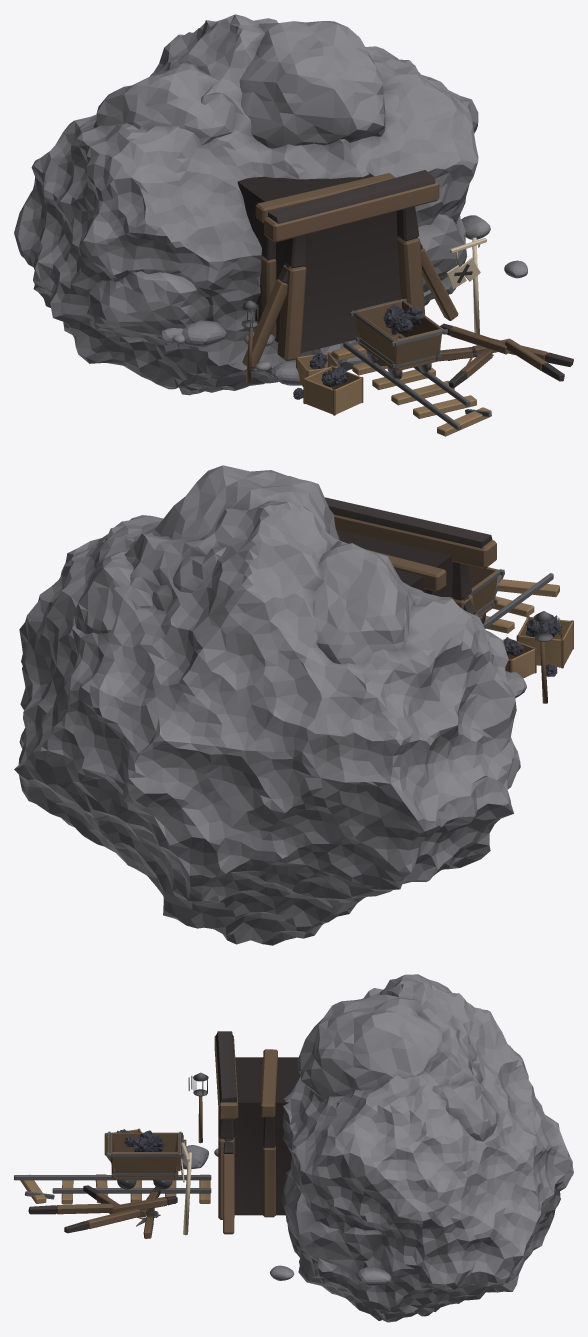
The model's file is mine_head.eebe5aea.glb.
3 renders of one model, top to bottom at view 1: azimuth 30°, elevation 25°; view 2: azimuth 150°, elevation 25°; view 3: azimuth 270°, elevation 25°, orthographic. The views are drawn at different scales.
Visible parts, largest first — view 1: mine_head; view 2: mine_head; view 3: mine_head.
Part boxes in pixels (x1,y1,x2,y2): mine_head: (14, 14, 573, 436); mine_head: (14, 465, 573, 945); mine_head: (14, 974, 573, 1322).
Bounding box in the file's own units: 9.78 × 8.39 × 13.05.
